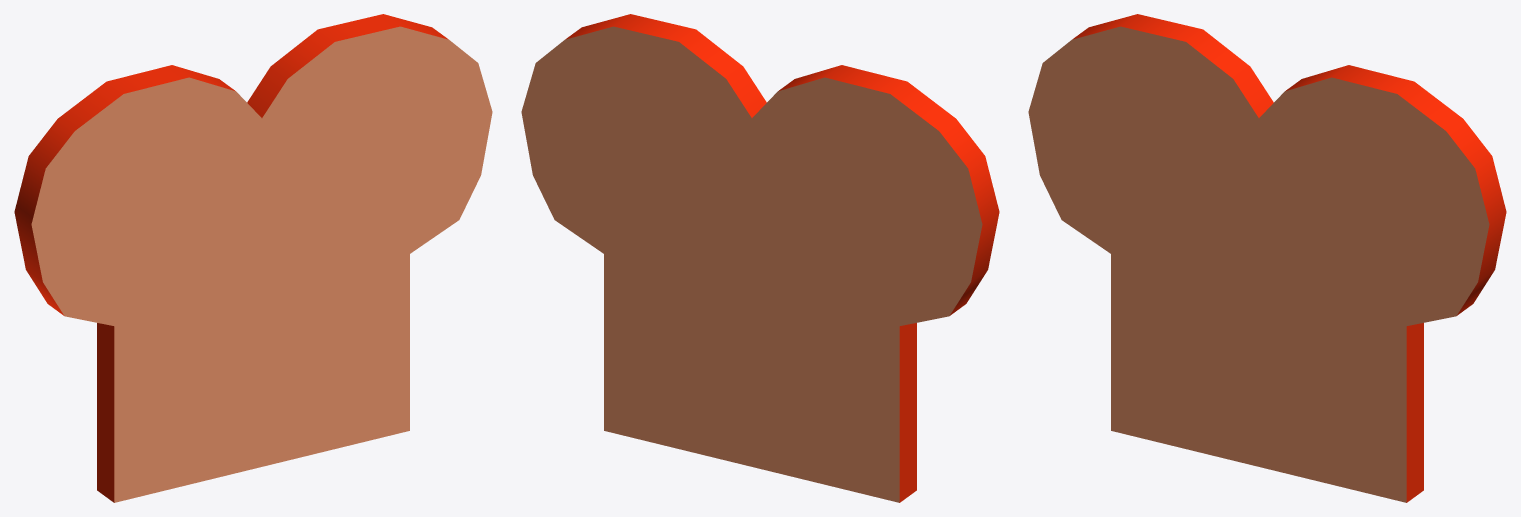
The model's file is Pared_Plana.fbx.
3 views of the same model, side by side, from view 1: azimuth 30°, elevation 25°; view 2: azimuth 150°, elevation 25°; view 3: azimuth 330°, elevation 25° (orthographic).
Visible parts, largest first — view 1: Pared_Frontal001; view 2: Pared_Frontal001; view 3: Pared_Frontal001.
Boxes of the visible parts, box(x1,y1,x2,y2) form: Pared_Frontal001: box(14, 14, 492, 502); Pared_Frontal001: box(521, 14, 999, 502); Pared_Frontal001: box(1028, 14, 1506, 502).
Size of the model in its own units: 1.56 by 1.32 by 0.1.
